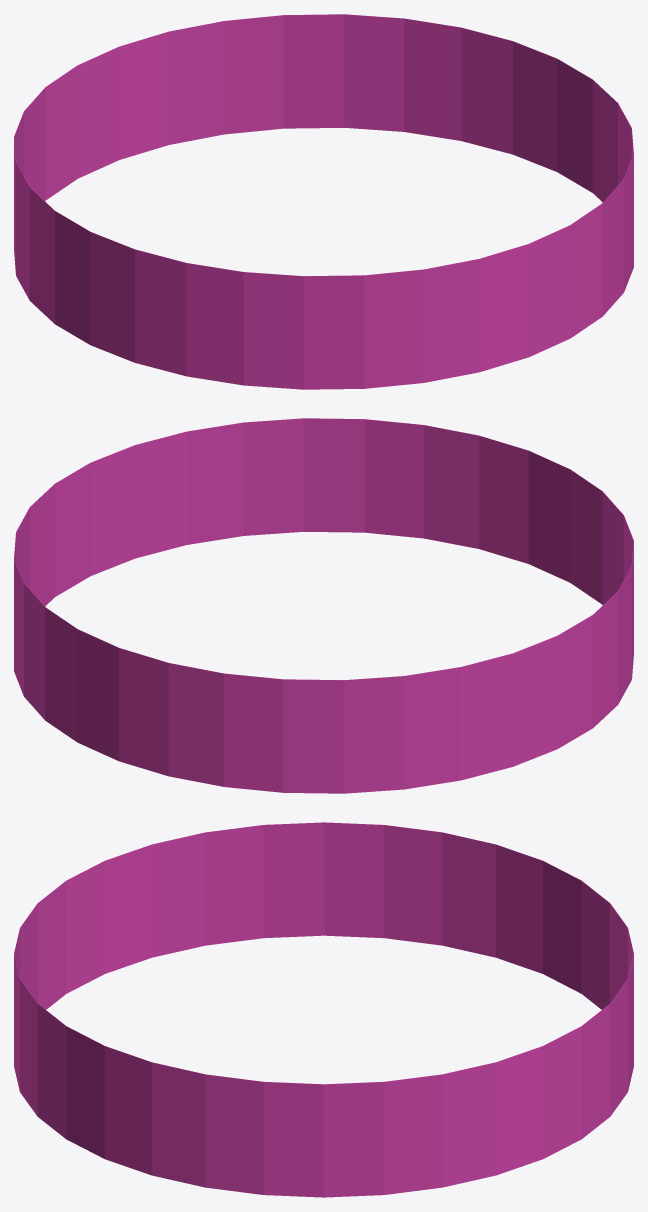
The model's file is Barrel.fbx.
The picture shows the model from 3 angles, top to bottom: view 1: azimuth 30°, elevation 25°; view 2: azimuth 150°, elevation 25°; view 3: azimuth 270°, elevation 25°; orthographic projection.
Visible parts, largest first — view 1: Cylinder.005, Cylinder.001, Cylinder.002, Cylinder.004, Cylinder.006, Cylinder.008, Cylinder.003, Cylinder.007; view 2: Cylinder.003, Cylinder.004, Cylinder.007, Cylinder.008, Cylinder.001, Cylinder.005, Cylinder.006, Cylinder.002; view 3: Cylinder.003, Cylinder.006, Cylinder.002, Cylinder.007, Cylinder.005, Cylinder.001, Cylinder.008, Cylinder.004.
Part boxes in pixels (left/top/right/bottom): Cylinder.005: left=224, top=14, right=461, bottom=140; Cylinder.001: left=243, top=259, right=479, bottom=389; Cylinder.002: left=55, top=211, right=243, bottom=385; Cylinder.004: left=45, top=21, right=224, bottom=200; Cylinder.006: left=461, top=27, right=617, bottom=202; Cylinder.008: left=479, top=203, right=602, bottom=372; Cylinder.003: left=14, top=87, right=54, bottom=323; Cylinder.007: left=602, top=103, right=633, bottom=316; Cylinder.003: left=344, top=615, right=592, bottom=793; Cylinder.004: left=119, top=648, right=344, bottom=793; Cylinder.007: left=90, top=418, right=303, bottom=575; Cylinder.008: left=303, top=418, right=479, bottom=548; Cylinder.001: left=479, top=435, right=623, bottom=604; Cylinder.005: left=14, top=558, right=118, bottom=760; Cylinder.006: left=14, top=463, right=90, bottom=606; Cylinder.002: left=593, top=515, right=633, bottom=727; Cylinder.003: left=324, top=822, right=581, bottom=993; Cylinder.006: left=263, top=1062, right=496, bottom=1197; Cylinder.002: left=105, top=822, right=323, bottom=973; Cylinder.007: left=66, top=1026, right=263, bottom=1194; Cylinder.005: left=496, top=979, right=627, bottom=1175; Cylinder.001: left=14, top=861, right=104, bottom=1009; Cylinder.008: left=14, top=953, right=66, bottom=1138; Cylinder.004: left=581, top=880, right=633, bottom=1091.
Bounding box in the file's own units: 2000 × 403 × 2000.
